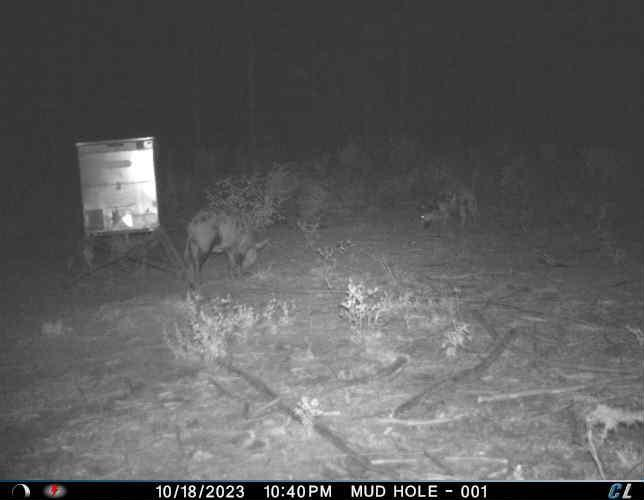Hog: (183, 202, 272, 277), (416, 185, 482, 236)
